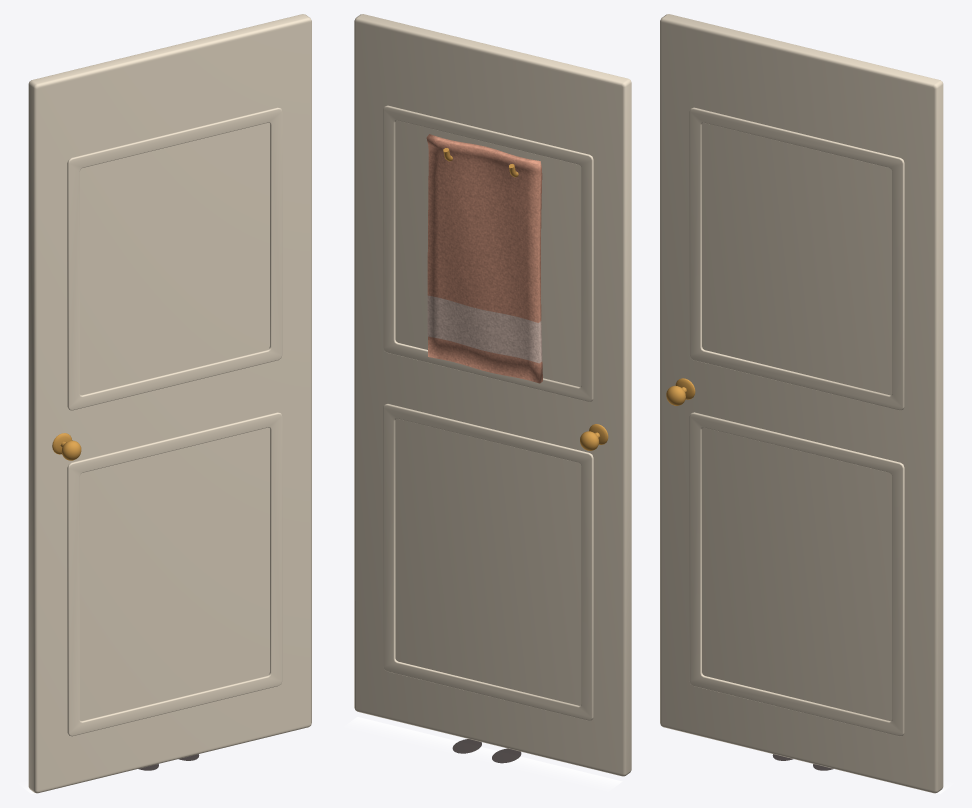
File: door.glb
3 renders of one model, left to right at view 1: azimuth 30°, elevation 25°; view 2: azimuth 150°, elevation 25°; view 3: azimuth 330°, elevation 25°, orthographic. The views are drawn at different scales.
Visible parts, largest first — view 1: Panel, InsetHall1, InsetHall0; view 2: Panel, Towel.001, InsetRoom1, InsetRoom0, Gap; view 3: Panel, InsetHall1, InsetHall0.
Part boxes in pixels (x1=…): Panel: x1=28, y1=14, x2=311, y2=793; InsetHall1: x1=67, y1=412, x2=282, y2=736; InsetHall0: x1=67, y1=107, x2=282, y2=410; Panel: x1=354, y1=14, x2=631, y2=776; Towel.001: x1=426, y1=134, x2=542, y2=383; InsetRoom1: x1=383, y1=404, x2=593, y2=720; InsetRoom0: x1=383, y1=105, x2=593, y2=401; Gap: x1=347, y1=717, x2=622, y2=789; Panel: x1=660, y1=14, x2=943, y2=793; InsetHall1: x1=689, y1=412, x2=904, y2=736; InsetHall0: x1=689, y1=107, x2=904, y2=410.
Size of the model in its own units: 0.83 by 2.04 by 0.1976.
6 materials, 3 textured.
